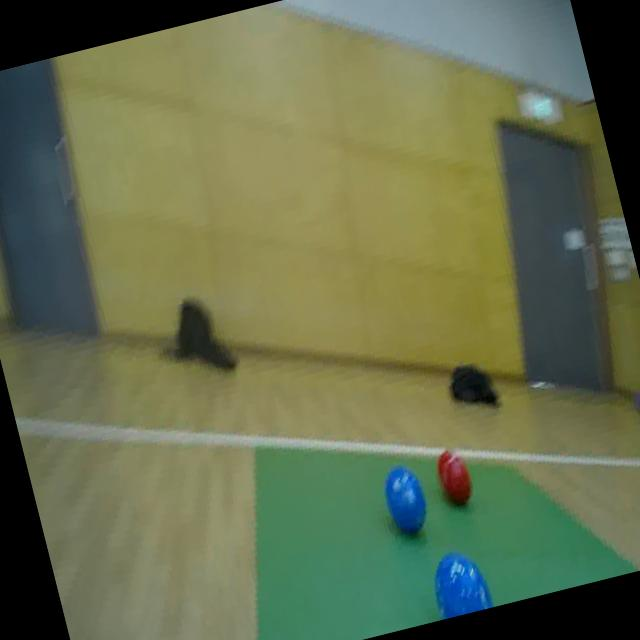blue_ball: (420, 542, 490, 620), (373, 460, 432, 540)
purple_ball: (629, 383, 640, 423)
red_ball: (431, 440, 477, 508)
